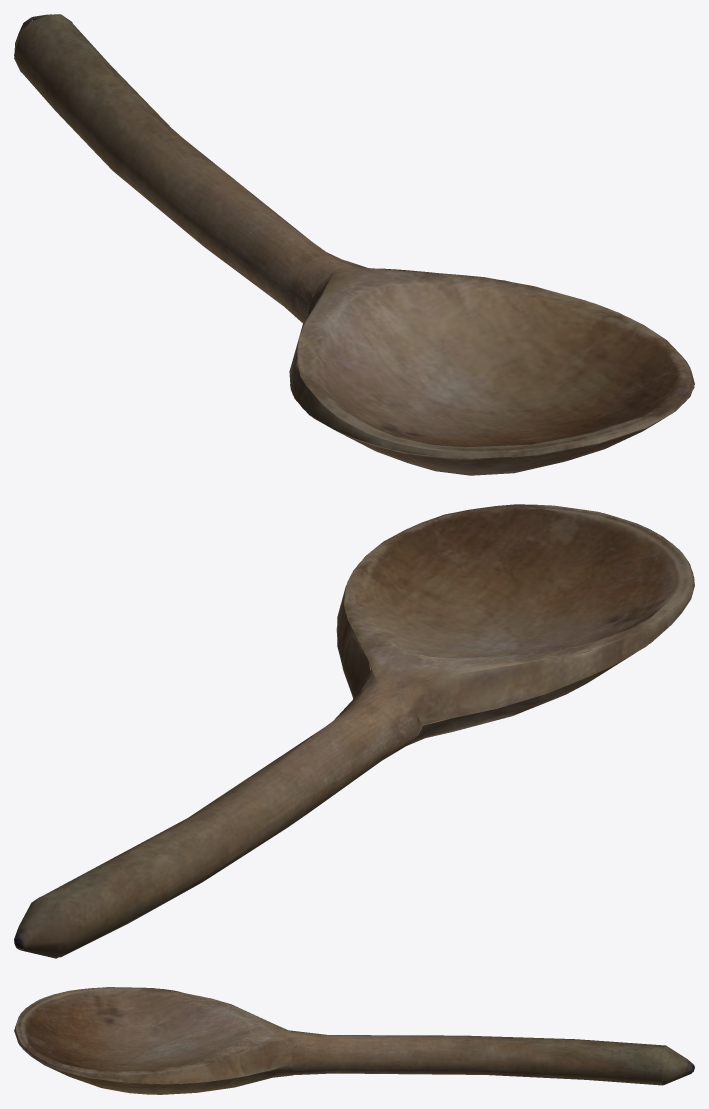
Rendered from wooden_spoon.glb.
3 renders of one model, top to bottom at view 1: azimuth 30°, elevation 25°; view 2: azimuth 150°, elevation 25°; view 3: azimuth 270°, elevation 25°, orthographic. The views are drawn at different scales.
Parts seen in each view (by area): view 1: wooden_spoon; view 2: wooden_spoon; view 3: wooden_spoon.
Boxes of the visible parts, x1,y1,x2,y2 form: wooden_spoon: (14,14,694,475); wooden_spoon: (14,504,694,958); wooden_spoon: (14,987,694,1094).
Bounding box in the file's own units: 0.0867 × 0.0251 × 0.2778.
Materials: 1 (1 with a texture image).
